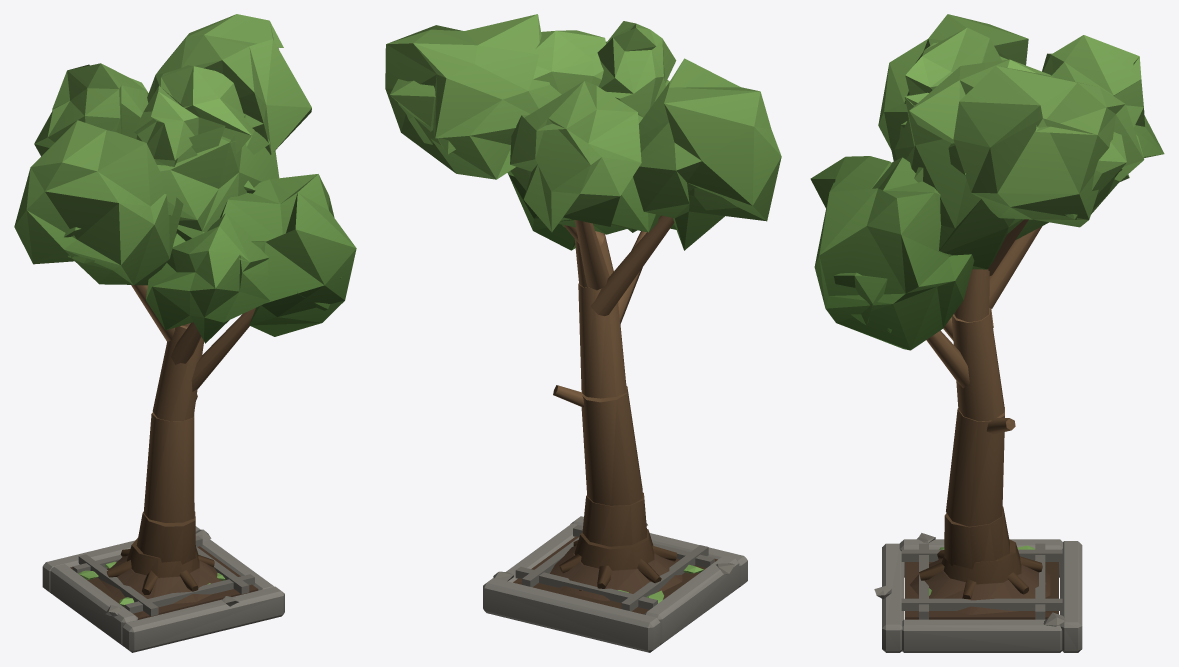
File: street_tree_01.glb
3 views of the same model, side by side, from view 1: azimuth 30°, elevation 25°; view 2: azimuth 150°, elevation 25°; view 3: azimuth 270°, elevation 25° (orthographic). The views are drawn at different scales.
Parts seen in each view (by area): view 1: street_tree_01; view 2: street_tree_01; view 3: street_tree_01.
Part boxes in pixels (bbox=[...]): street_tree_01: bbox=[14, 14, 356, 652]; street_tree_01: bbox=[385, 14, 781, 652]; street_tree_01: bbox=[810, 14, 1164, 652].
Size of the model in its own units: 2.23 by 3.59 by 1.98.
